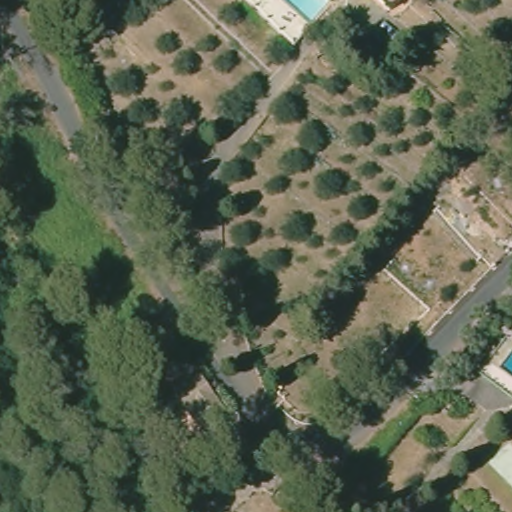pool: (282, 1, 337, 24)
